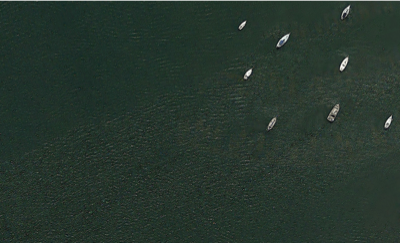boat: (327, 103, 341, 124), (276, 33, 290, 52), (266, 117, 278, 133), (236, 19, 249, 32), (341, 6, 351, 22), (384, 115, 394, 131), (340, 58, 350, 73), (244, 68, 253, 83)
